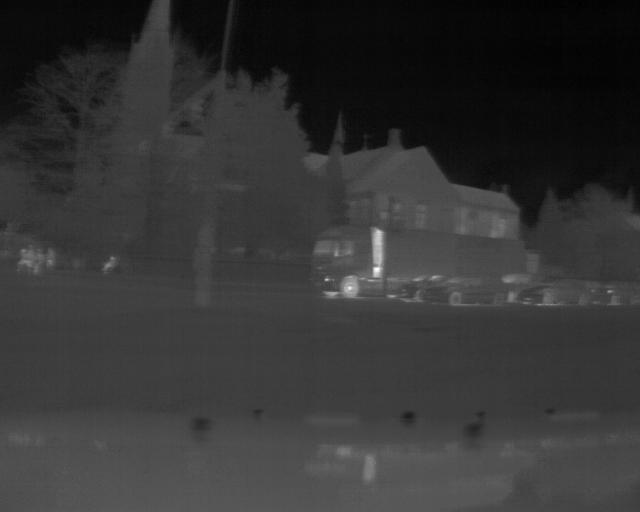car: (307, 228, 533, 303), (424, 276, 517, 307), (519, 280, 600, 309)
person: (17, 240, 28, 276), (45, 244, 56, 280), (104, 250, 116, 278)
